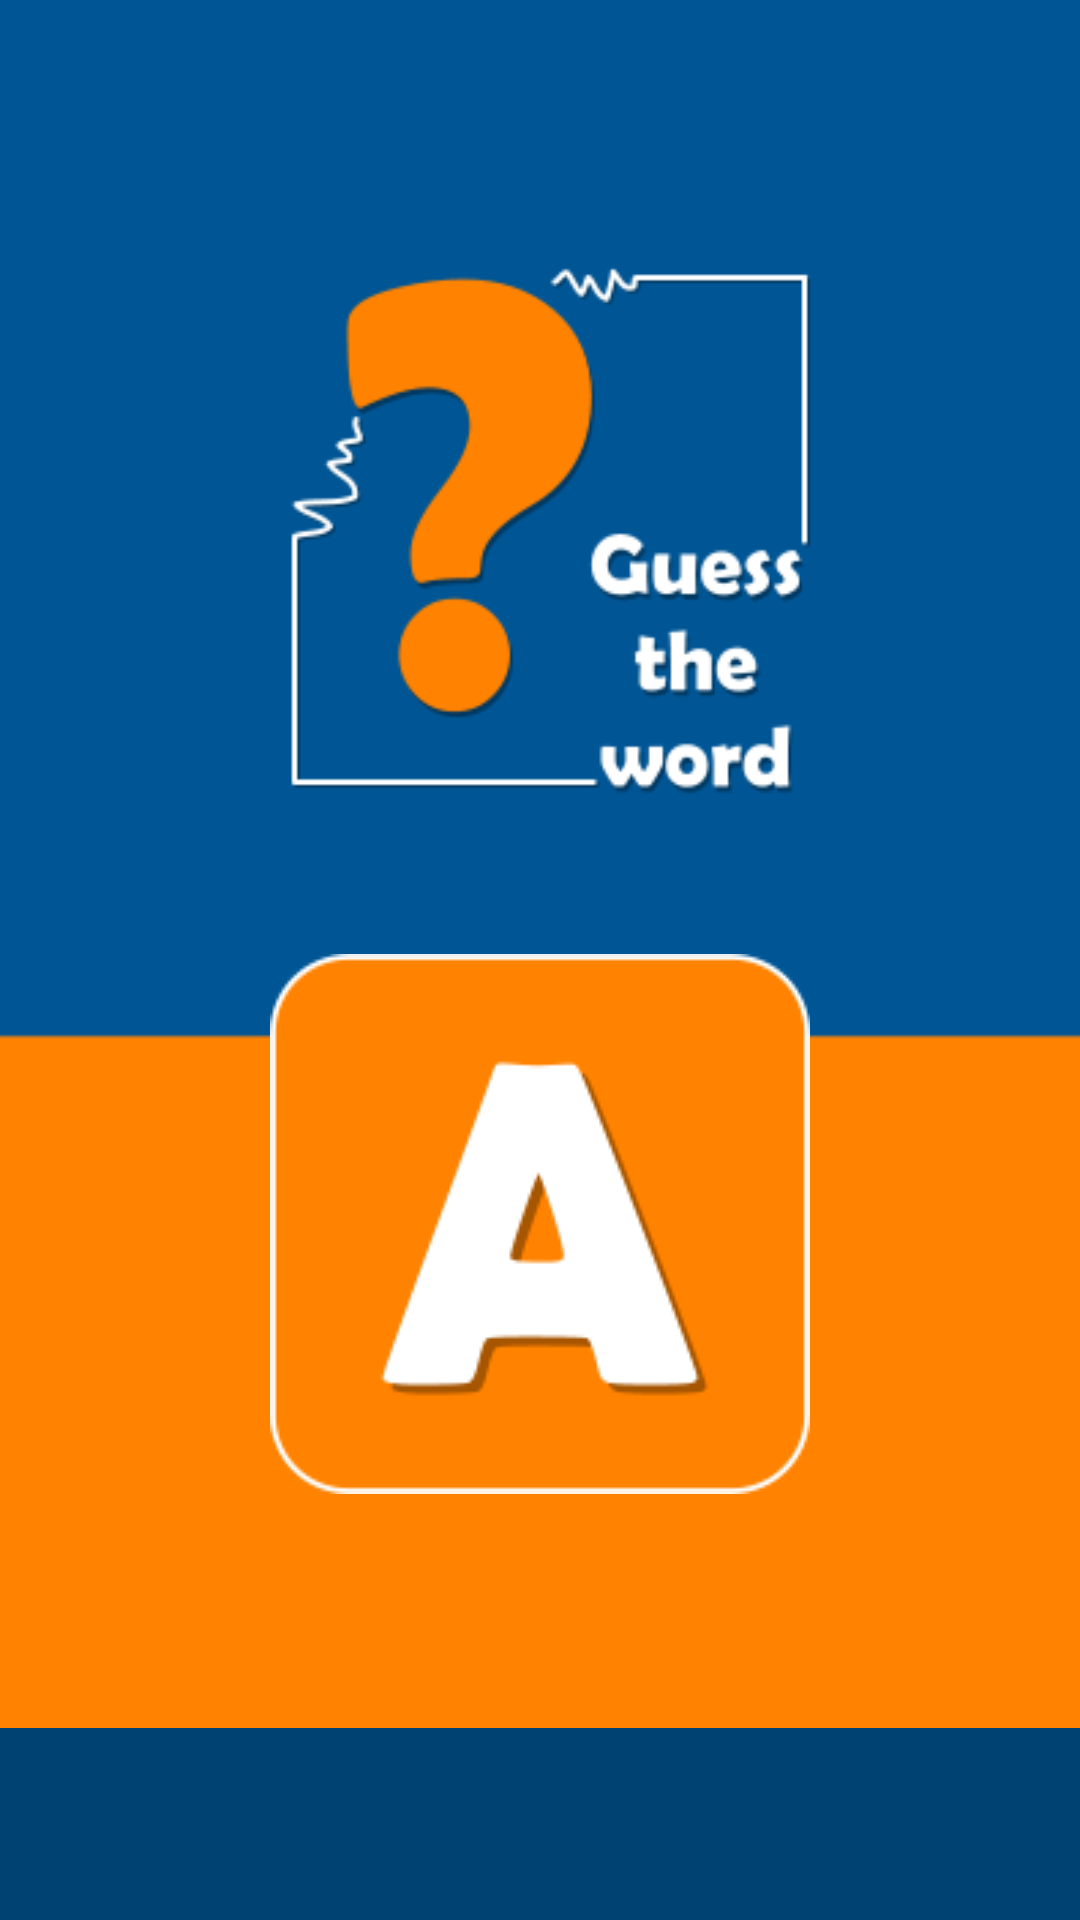

Where icons sit on this 1080px×1920px app screen, as [x1,y1,x2,y2]:
alphabet: [380,1061,707,1395]
